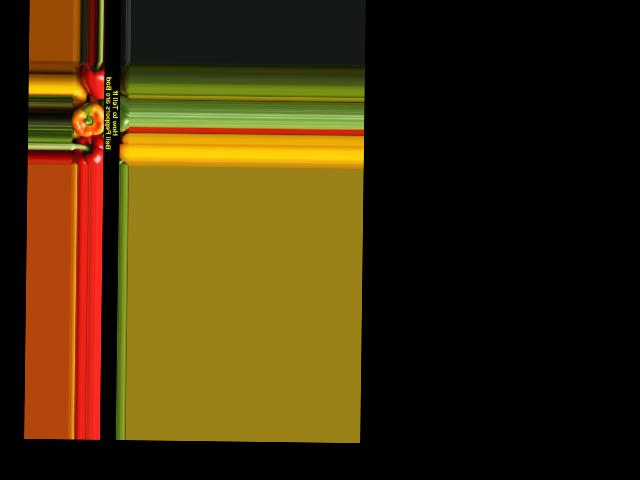bell_pepper: (70, 133, 105, 163)
